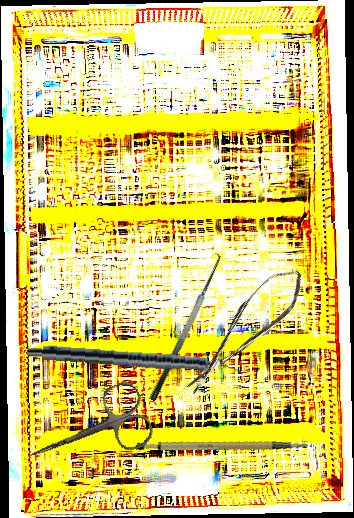Handpiece: (26, 343, 244, 379)
Iris Scissors: (15, 378, 158, 486)
Micro Scissor: (172, 259, 315, 402)
Scalpel Handle: (135, 419, 309, 476)
Spatula Surgical: (136, 249, 230, 403)
